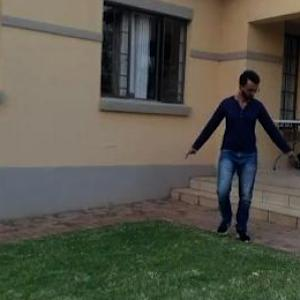land: (181, 68, 290, 247)
